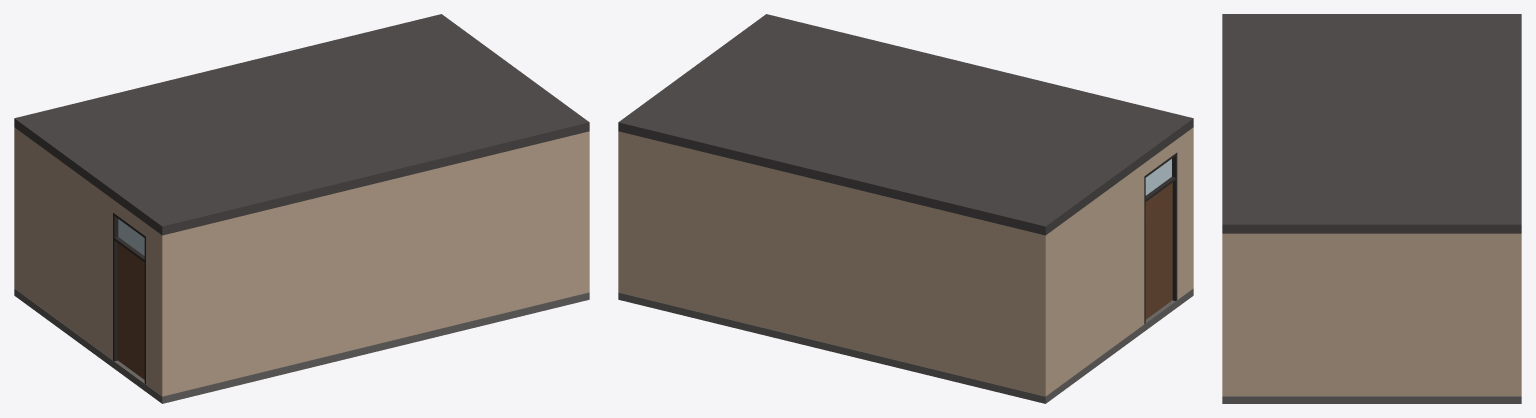
File: TSCRestaurant.fbx
The picture shows the model from 3 angles, left to right: view 1: azimuth 30°, elevation 25°; view 2: azimuth 150°, elevation 25°; view 3: azimuth 270°, elevation 25°; orthographic projection.
Parts seen in each view (by area): view 1: Wall South, Ceiling, Wall West North, Floor Slab, Entrance Door, Wall West South, Wall North, Door Jamb.001, Transom Pane; view 2: Wall North, Ceiling, Wall West North, Floor Slab, Entrance Door, Wall West South, Wall South, Door Jamb, Transom Pane; view 3: Ceiling, Wall East, Floor Slab, Wall North, Wall South.
Boxes of the visible parts, bbox=[...] form: Wall South: bbox=[157, 131, 589, 396]; Ceiling: bbox=[14, 14, 589, 235]; Wall West North: bbox=[19, 131, 112, 359]; Floor Slab: bbox=[14, 288, 589, 403]; Entrance Door: bbox=[117, 243, 144, 379]; Wall West South: bbox=[146, 224, 157, 392]; Wall North: bbox=[14, 127, 19, 291]; Door Jamb.001: bbox=[113, 213, 118, 361]; Transom Pane: bbox=[118, 219, 144, 255]; Wall North: bbox=[618, 131, 1050, 396]; Ceiling: bbox=[618, 14, 1193, 235]; Wall West North: bbox=[1050, 163, 1144, 392]; Floor Slab: bbox=[618, 288, 1193, 403]; Entrance Door: bbox=[1145, 183, 1172, 319]; Wall West South: bbox=[1177, 131, 1188, 299]; Wall South: bbox=[1188, 127, 1193, 291]; Door Jamb: bbox=[1172, 152, 1177, 300]; Transom Pane: bbox=[1145, 159, 1171, 195]; Ceiling: bbox=[1222, 14, 1521, 233]; Wall East: bbox=[1232, 233, 1511, 396]; Floor Slab: bbox=[1222, 396, 1521, 403]; Wall North: bbox=[1511, 233, 1521, 396]; Wall South: bbox=[1222, 233, 1232, 396].
Size of the model in its own units: 750 by 297 by 450.
